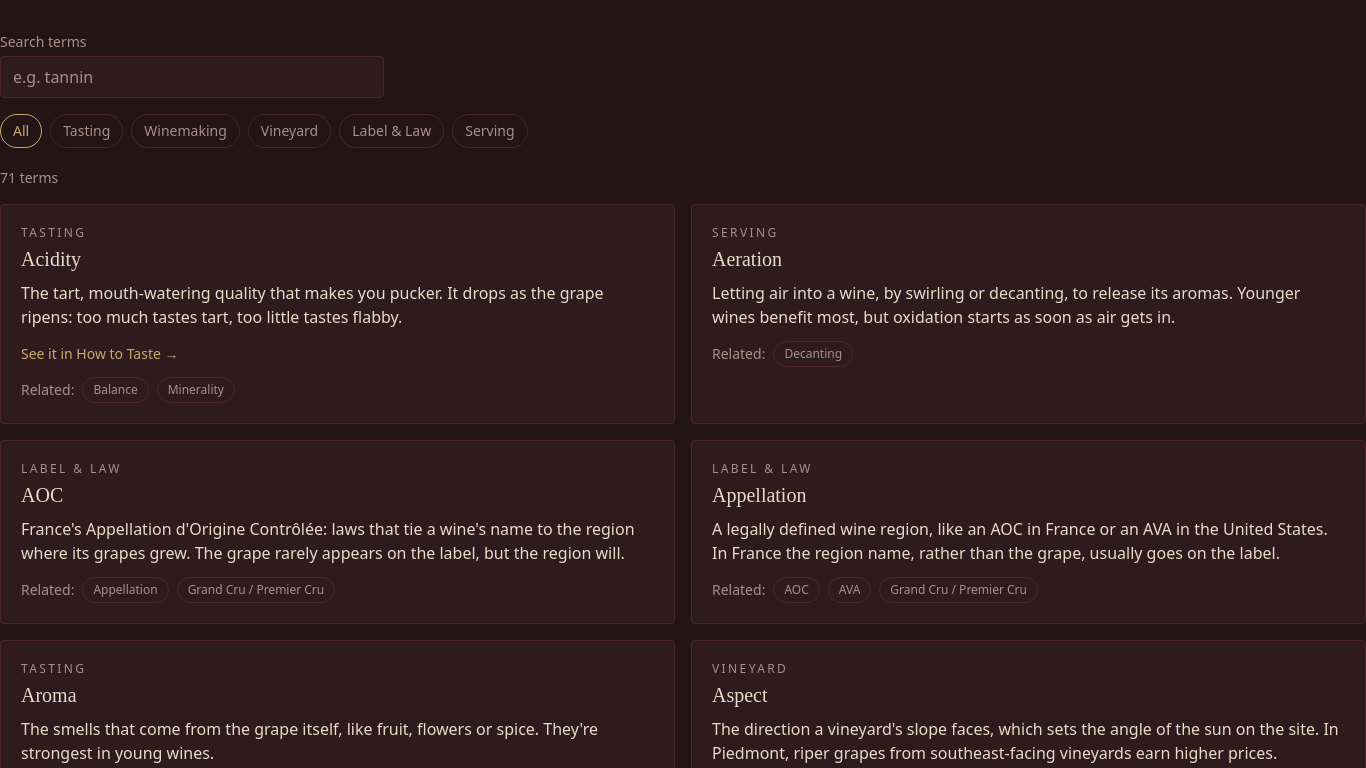
GlossaryChapter › narrows by search and updates the count
This screenshot has width=1366, height=768.
Type "trichloroanisole" into the search field labelled "Search terms" at (192, 77), box [0,56,384,98]
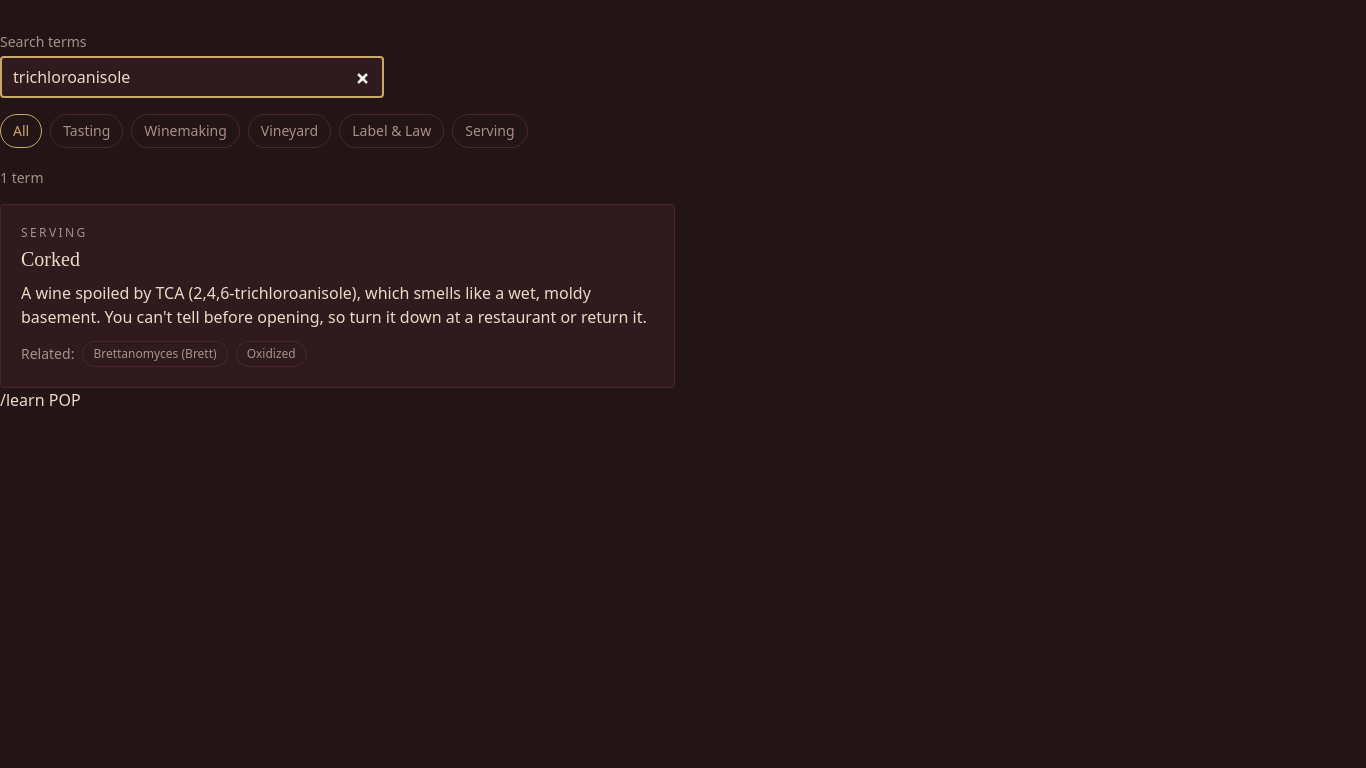
Check: the message reads "1 term", box [0,168,44,187]
